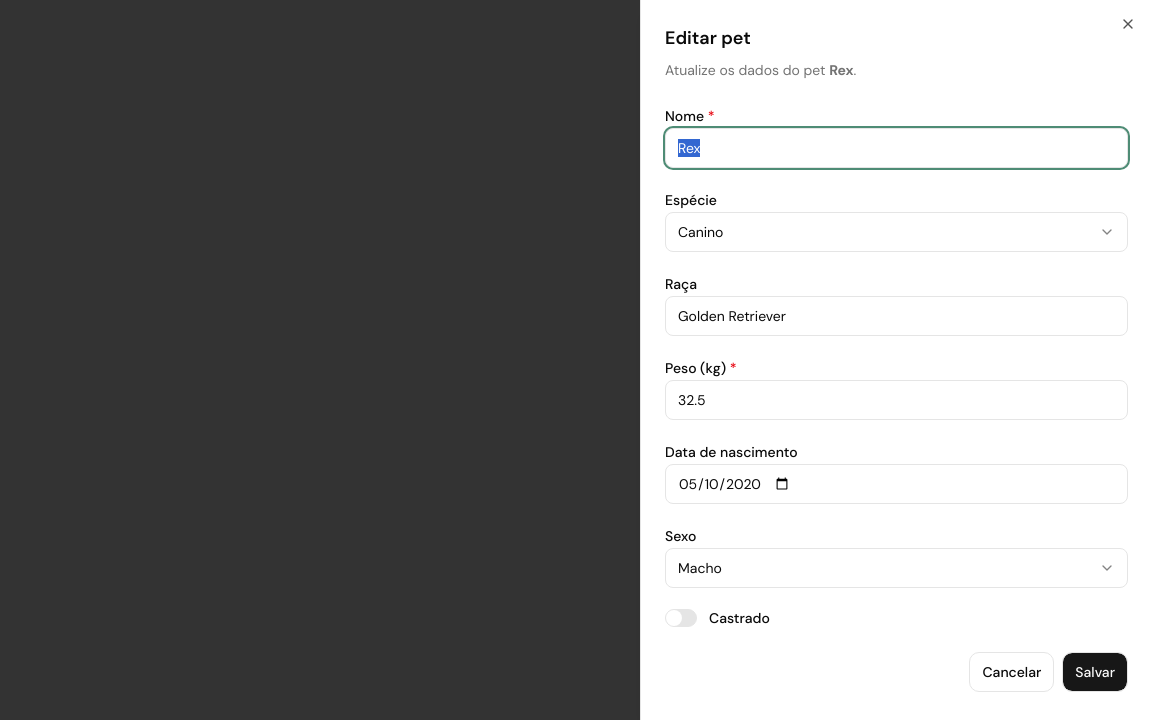
EditPetDrawer › should show validation error when birthDate is in the future
This screenshot has width=1152, height=720.
Note: Set a future date
In the date field labelled "Data de nascimento": [896, 484] box [665,464,1128,504], type "2099-01-01"
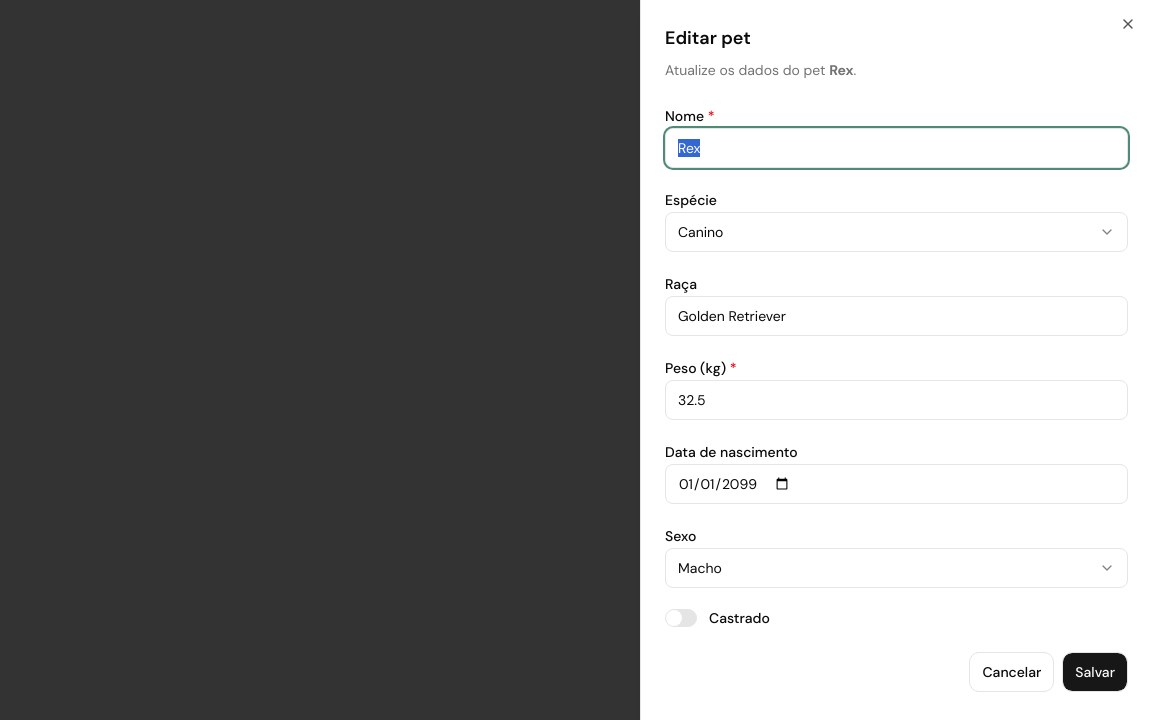
Submit the form with id "edit-pet-form", box [665,104,1128,628]
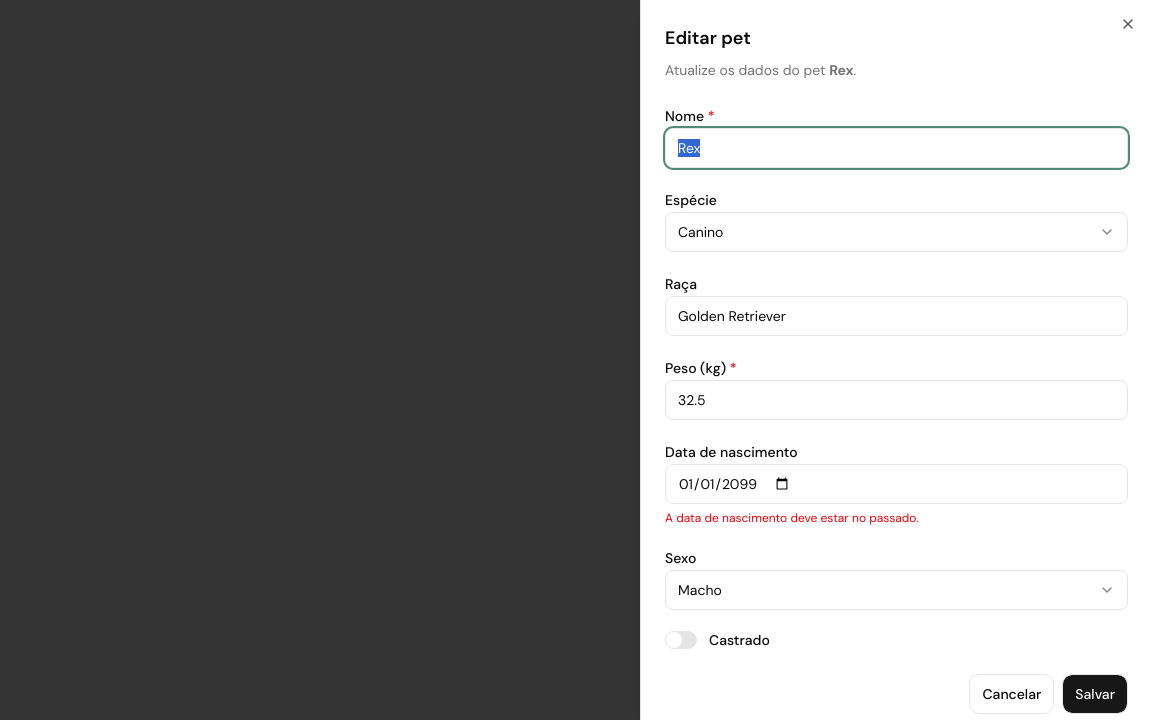
Result: the text "A data de nascimento deve estar no passado." is shown at [665,510,919,526]
